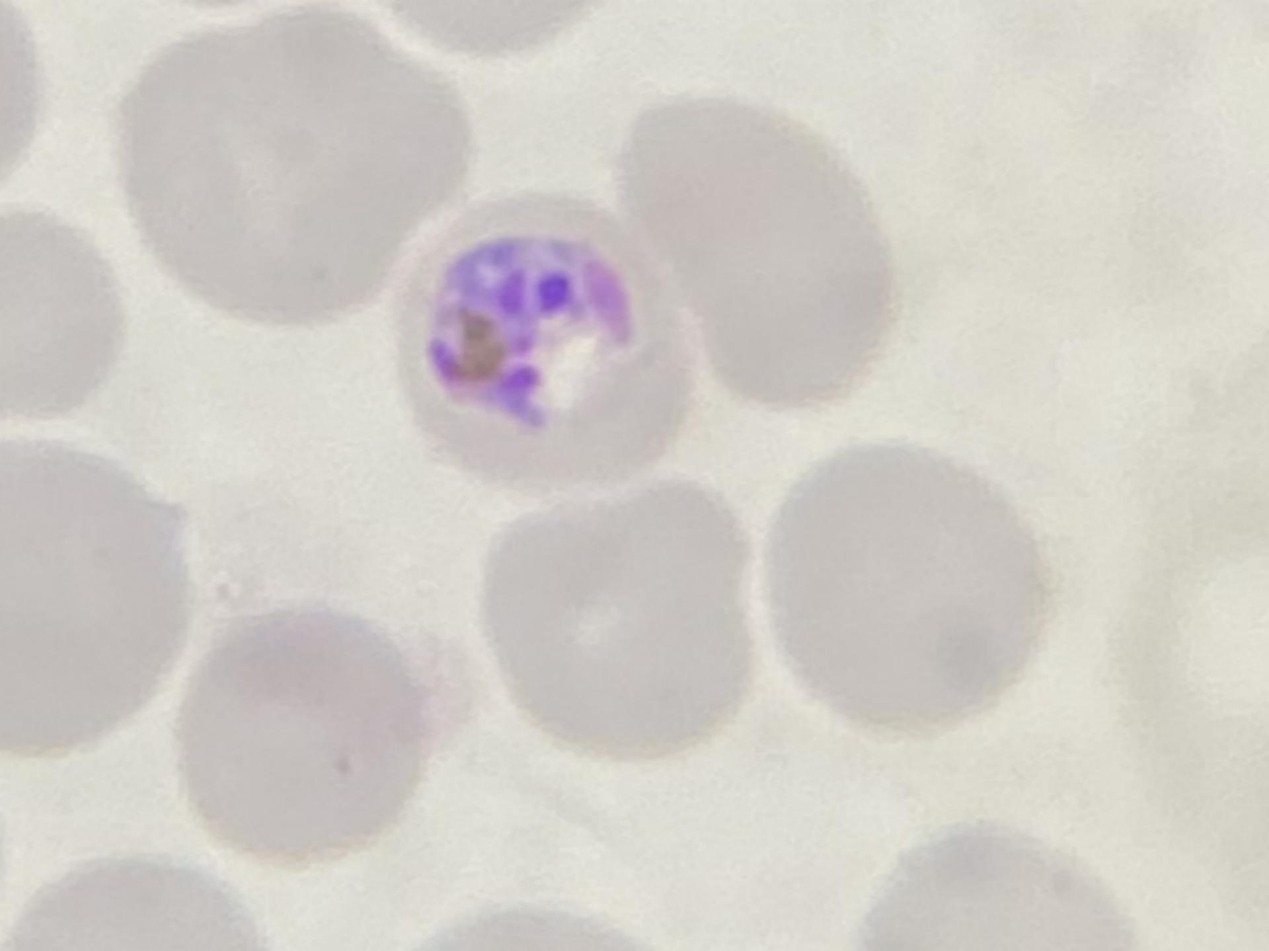Infected: (399, 188, 696, 486)
Uninfected: (112, 5, 469, 337), (608, 93, 903, 415), (769, 437, 1065, 741), (480, 483, 758, 763), (172, 615, 447, 872), (0, 428, 188, 765)
